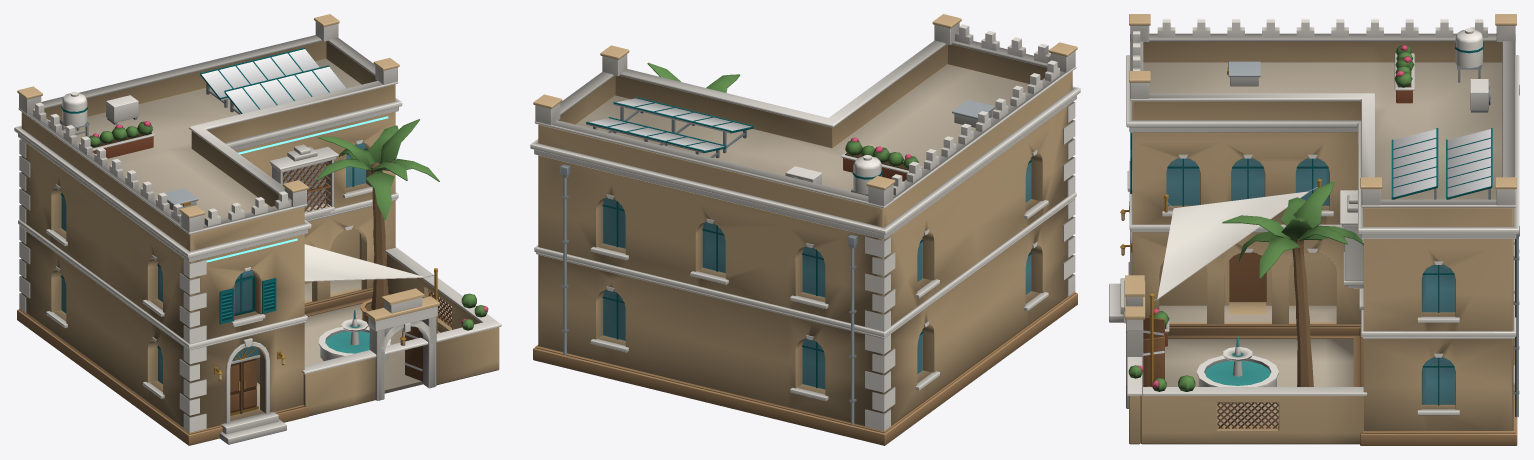
Rendered from bldg_courtyard.fbx.
3 views of the same model, side by side, from view 1: azimuth 30°, elevation 25°; view 2: azimuth 150°, elevation 25°; view 3: azimuth 270°, elevation 25° (orthographic). The views are drawn at different scales.
Visible parts, largest first — view 1: bldg_courtyard; view 2: bldg_courtyard; view 3: bldg_courtyard.
Boxes of the visible parts, x1,y1,x2,y2 form: bldg_courtyard: [14, 14, 501, 445]; bldg_courtyard: [530, 14, 1080, 445]; bldg_courtyard: [1109, 14, 1519, 445].
Bounding box in the file's own units: 12.14 × 8.54 × 12.07.
